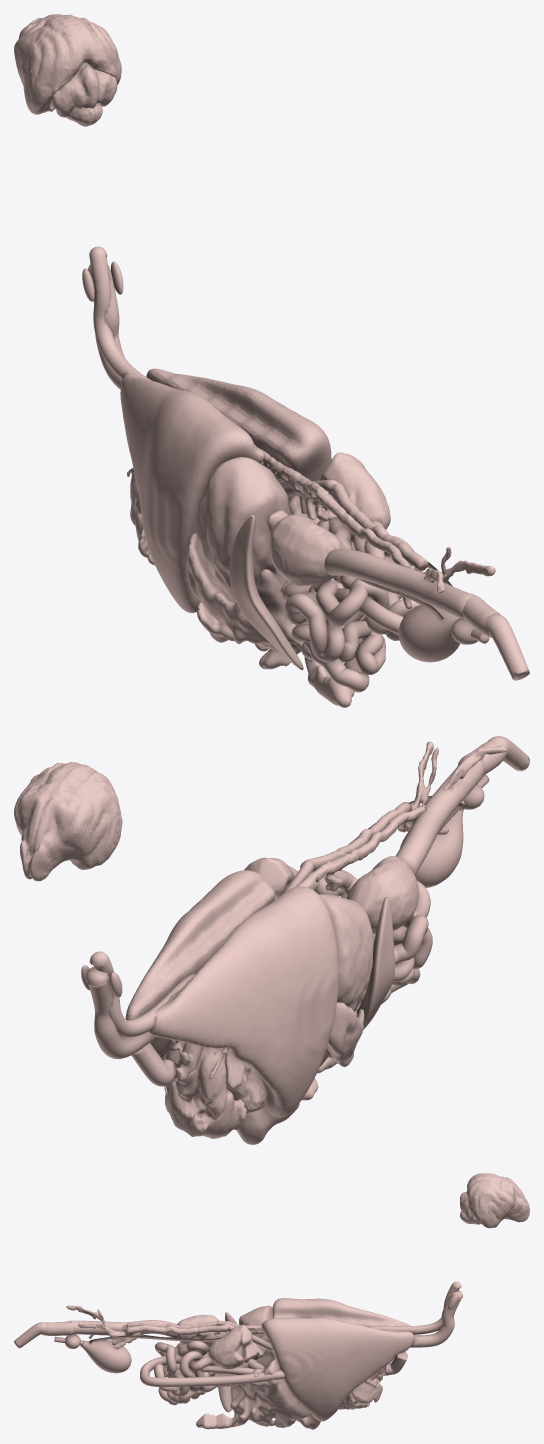
File: visceral.glb
3 views of the same model, one above another, from view 1: azimuth 30°, elevation 25°; view 2: azimuth 150°, elevation 25°; view 3: azimuth 270°, elevation 25° (orthographic). The views are drawn at different scales.
Visible parts, largest first — view 1: dog_visceral_lungs_L, dog_visceral_small-intestine, dog_visceral_liver, dog_visceral_stomach, dog_visceral_lungs_R, dog_visceral_brain_cerebrum, dog_visceral_large-intestine, dog_visceral_kidneys_L, dog_visceral_aorta, dog_visceral_spleen, dog_visceral_urinary-bladder, dog_visceral_kidneys_R (+4 smaller); view 2: dog_visceral_lungs_L, dog_visceral_brain_cerebrum, dog_visceral_lungs_R, dog_visceral_heart, dog_visceral_aorta, dog_visceral_large-intestine, dog_visceral_stomach, dog_visceral_kidneys_L, dog_visceral_small-intestine, dog_visceral_liver, dog_visceral_venae-cavae, dog_visceral_trachea (+5 smaller); view 3: dog_visceral_lungs_R, dog_visceral_small-intestine, dog_visceral_liver, dog_visceral_brain_cerebrum, dog_visceral_lungs_L, dog_visceral_kidneys_R, dog_visceral_large-intestine, dog_visceral_aorta, dog_visceral_venae-cavae, dog_visceral_urinary-bladder, dog_visceral_trachea, dog_visceral_heart (+5 smaller).
Part boxes in pixels (box(x1,y1,x2,y2)): dog_visceral_lungs_L: box(120, 373, 264, 612); dog_visceral_small-intestine: box(280, 517, 422, 692); dog_visceral_liver: box(186, 496, 355, 707); dog_visceral_stomach: box(196, 457, 292, 651); dog_visceral_lungs_R: box(146, 368, 331, 486); dog_visceral_brain_cerebrum: box(14, 14, 121, 114); dog_visceral_large-intestine: box(275, 549, 529, 680); dog_visceral_kidneys_L: box(269, 514, 443, 621); dog_visceral_aorta: box(254, 444, 495, 609); dog_visceral_spleen: box(229, 514, 303, 670); dog_visceral_urinary-bladder: box(398, 604, 489, 662); dog_visceral_kidneys_R: box(313, 452, 452, 586); dog_visceral_lungs_L: box(149, 886, 338, 1117); dog_visceral_brain_cerebrum: box(14, 762, 122, 881); dog_visceral_lungs_R: box(125, 870, 275, 1057); dog_visceral_heart: box(165, 1040, 267, 1138); dog_visceral_aorta: box(175, 741, 507, 1081); dog_visceral_large-intestine: box(373, 736, 529, 943); dog_visceral_stomach: box(319, 894, 373, 1066); dog_visceral_kidneys_L: box(347, 803, 463, 933); dog_visceral_small-intestine: box(313, 870, 432, 1003); dog_visceral_liver: box(236, 1002, 364, 1144); dog_visceral_venae-cavae: box(131, 802, 411, 1086); dog_visceral_trachea: box(86, 966, 156, 1059); dog_visceral_lungs_R: box(261, 1318, 414, 1421); dog_visceral_small-intestine: box(140, 1340, 284, 1405); dog_visceral_liver: box(196, 1349, 320, 1429); dog_visceral_brain_cerebrum: box(466, 1173, 529, 1228); dog_visceral_lungs_L: box(272, 1298, 411, 1327); dog_visceral_kidneys_R: box(88, 1324, 263, 1368); dog_visceral_large-intestine: box(14, 1320, 240, 1392); dog_visceral_aorta: box(66, 1305, 264, 1348); dog_visceral_venae-cavae: box(126, 1323, 407, 1376); dog_visceral_urinary-bladder: box(54, 1336, 131, 1373); dog_visceral_trachea: box(410, 1290, 462, 1347); dog_visceral_heart: box(338, 1367, 384, 1409).
Bounding box in the file's own units: 0.1124 × 0.3485 × 0.632.
